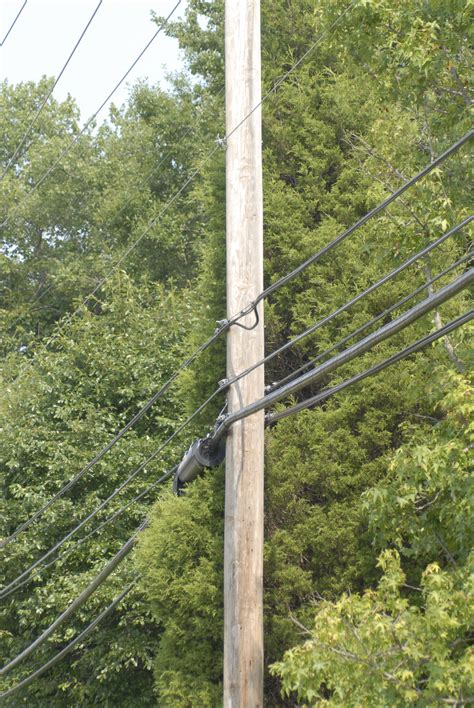pole: (200, 1, 305, 707)
